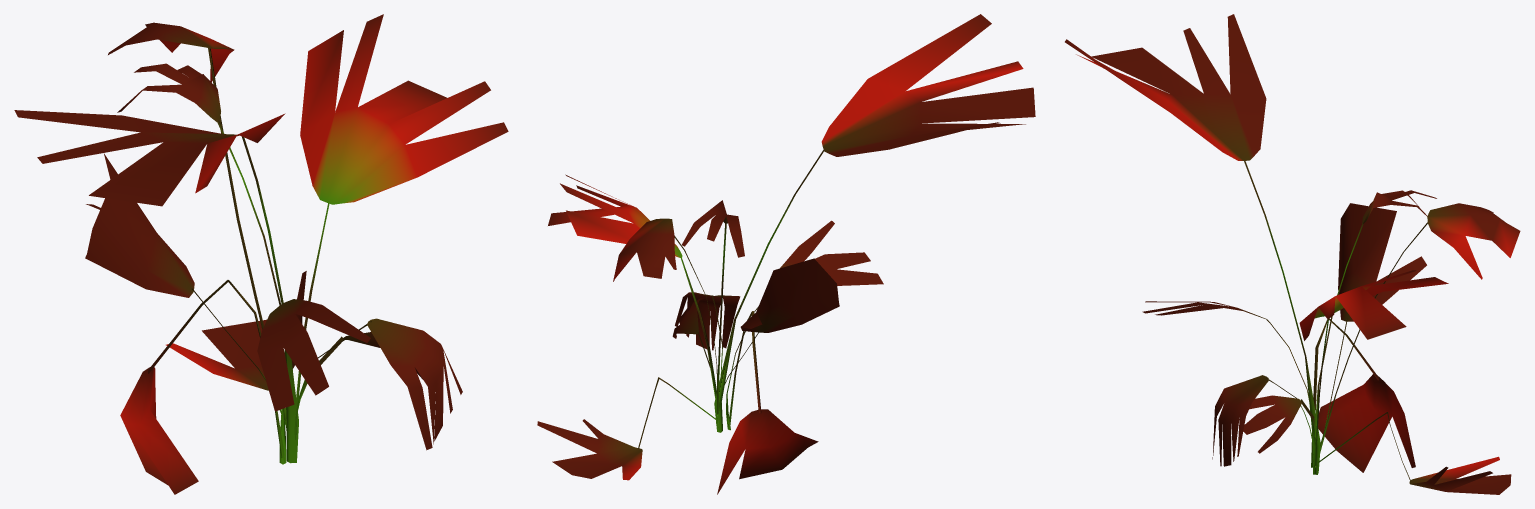
File: Var2_LOD2.fbx
The picture shows the model from 3 angles, left to right: view 1: azimuth 30°, elevation 25°; view 2: azimuth 150°, elevation 25°; view 3: azimuth 270°, elevation 25°; orthographic projection. The views are drawn at different scales.
Visible parts, largest first — view 1: _3bed_Var2_LOD2; view 2: _3bed_Var2_LOD2; view 3: _3bed_Var2_LOD2.
Boxes of the visible parts, box(x1,y1,x2,y2) form: _3bed_Var2_LOD2: box(14, 14, 508, 494); _3bed_Var2_LOD2: box(537, 14, 1035, 494); _3bed_Var2_LOD2: box(1065, 14, 1520, 494).
Bounding box in the file's own units: 164 × 153 × 163.
